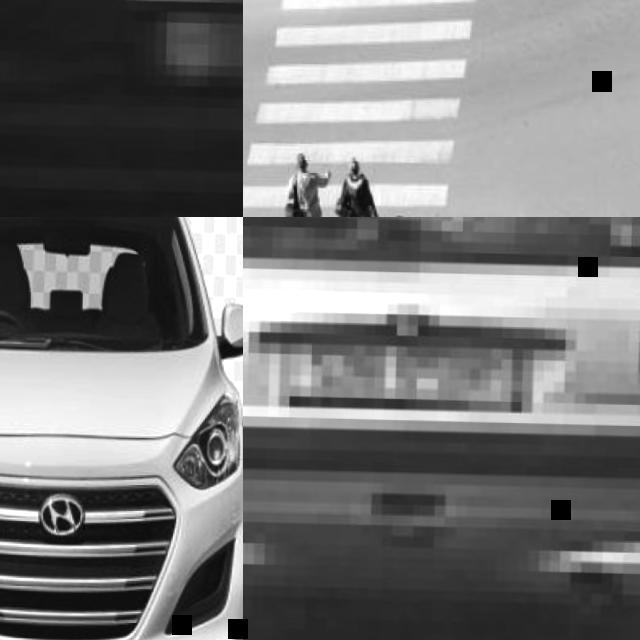car: (0, 189, 240, 634)
